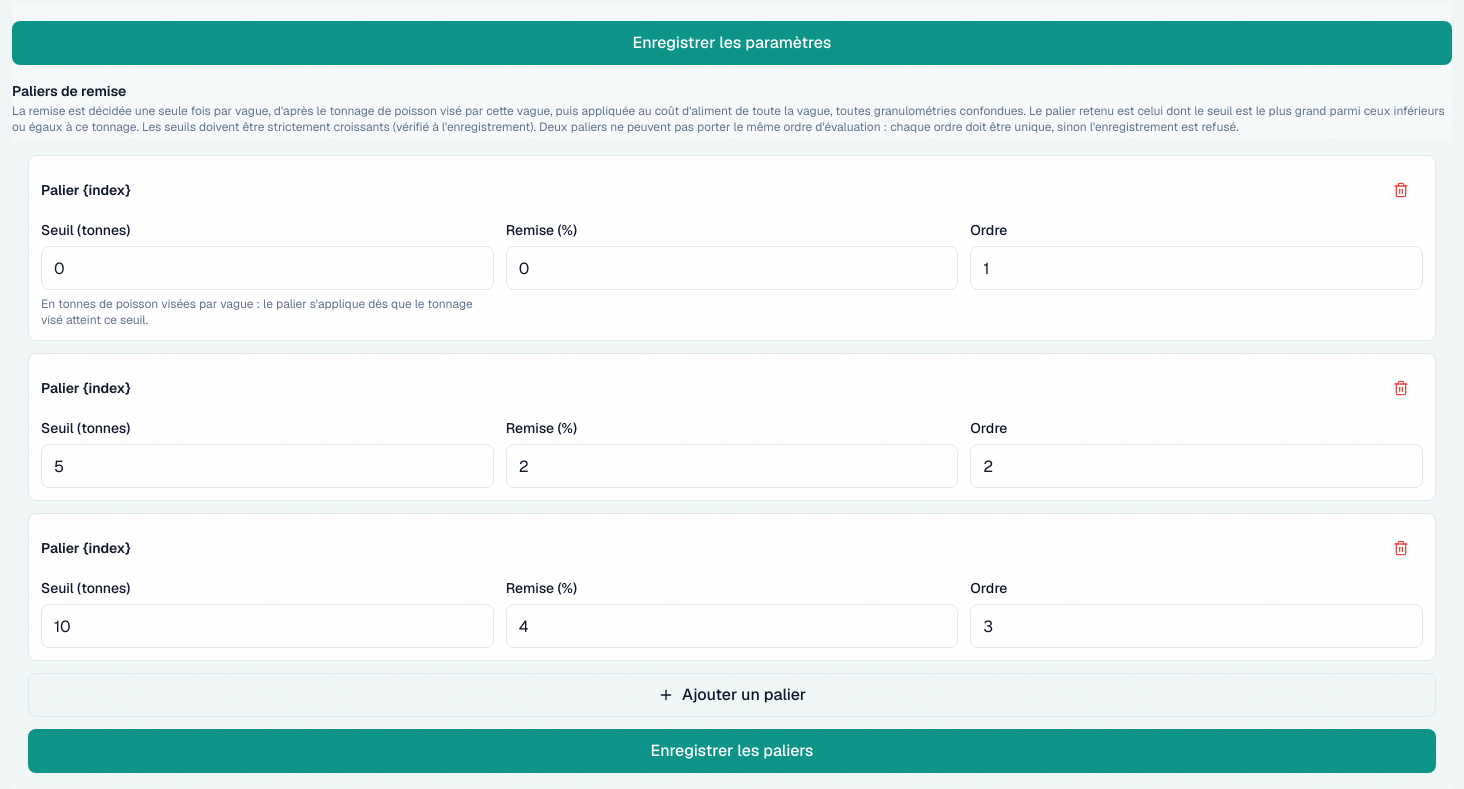
ParametresTab — paliers : le refus d'un doublon d'ordre est restitue au champ fautif › aria-describedby ne reference jamais un id non rendu quand un champ porte a la fois un hint et une erreur
(page scrolled)
Click the button "Enregistrer les paliers" at (732, 751), box [28,729,1436,773]
(page scrolled)
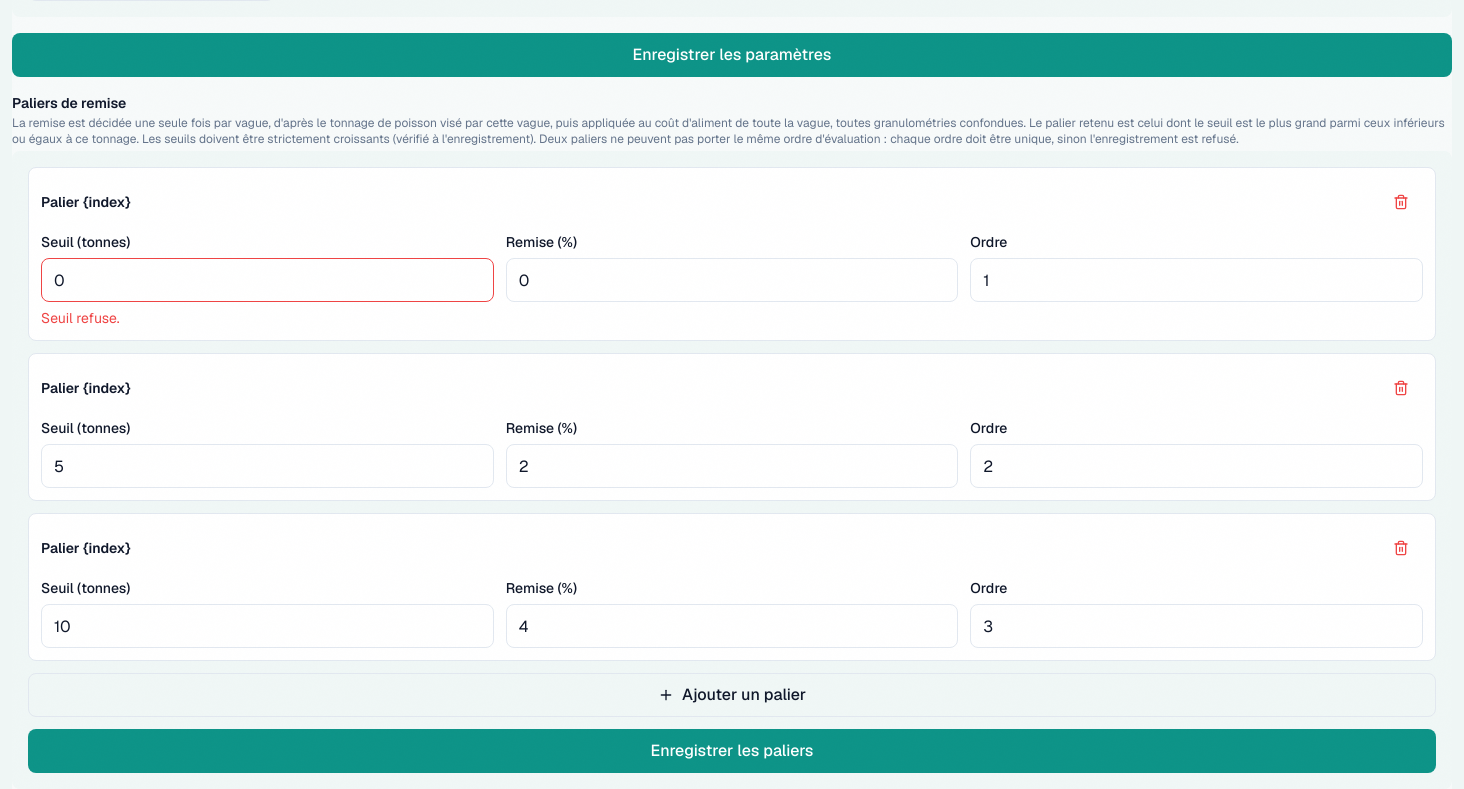
Expected: the message "Seuil refuse." is shown, [41,309,120,327]
Expected: the text "En tonnes de poisson visées par vague" is gone
